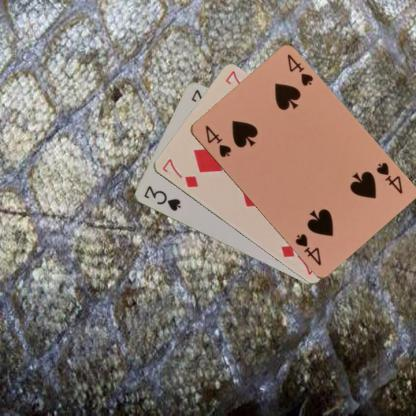3s: (140, 183, 182, 213)
4s: (372, 160, 404, 196), (202, 122, 233, 158)
7d: (158, 156, 200, 190)
